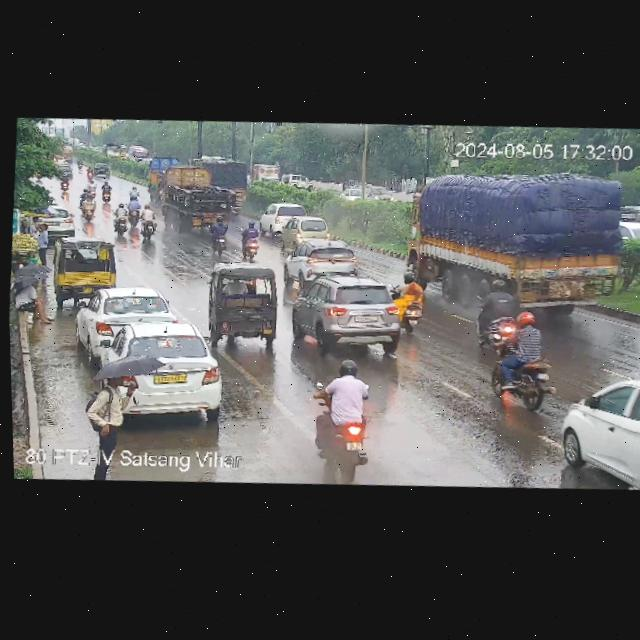car: (90, 322, 229, 426), (293, 272, 405, 360), (74, 279, 182, 345), (206, 265, 285, 347), (49, 235, 121, 295), (282, 234, 367, 278), (258, 200, 310, 233), (282, 211, 338, 240), (48, 199, 77, 236)
motorcycle: (313, 360, 375, 477), (485, 313, 559, 411), (473, 279, 523, 350), (393, 272, 427, 338), (138, 202, 159, 245), (241, 218, 262, 255), (211, 215, 230, 253), (76, 184, 99, 215), (110, 203, 131, 235), (99, 178, 115, 198)
person: (90, 373, 129, 474), (11, 278, 52, 328), (30, 220, 49, 264), (125, 200, 143, 224)
truck: (414, 162, 634, 324), (157, 163, 237, 234), (187, 154, 252, 215), (144, 154, 183, 196)
